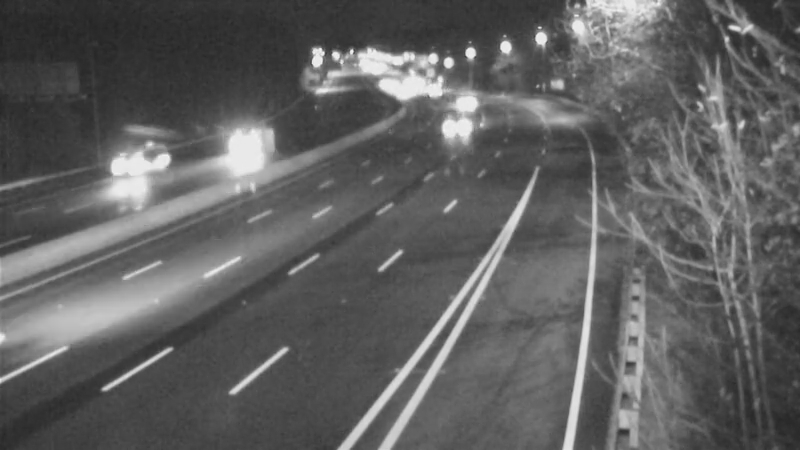vehicle: (89, 123, 169, 203), (415, 65, 465, 115), (434, 74, 484, 124), (428, 98, 478, 148), (216, 116, 266, 166)
